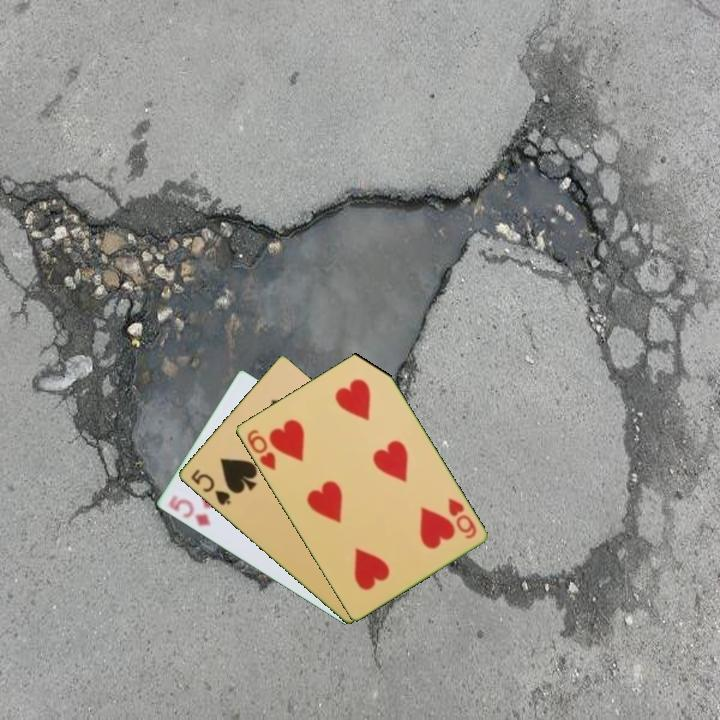5d: (164, 491, 213, 529)
5s: (187, 466, 233, 508)
6h: (444, 494, 479, 542), (243, 426, 278, 473)
